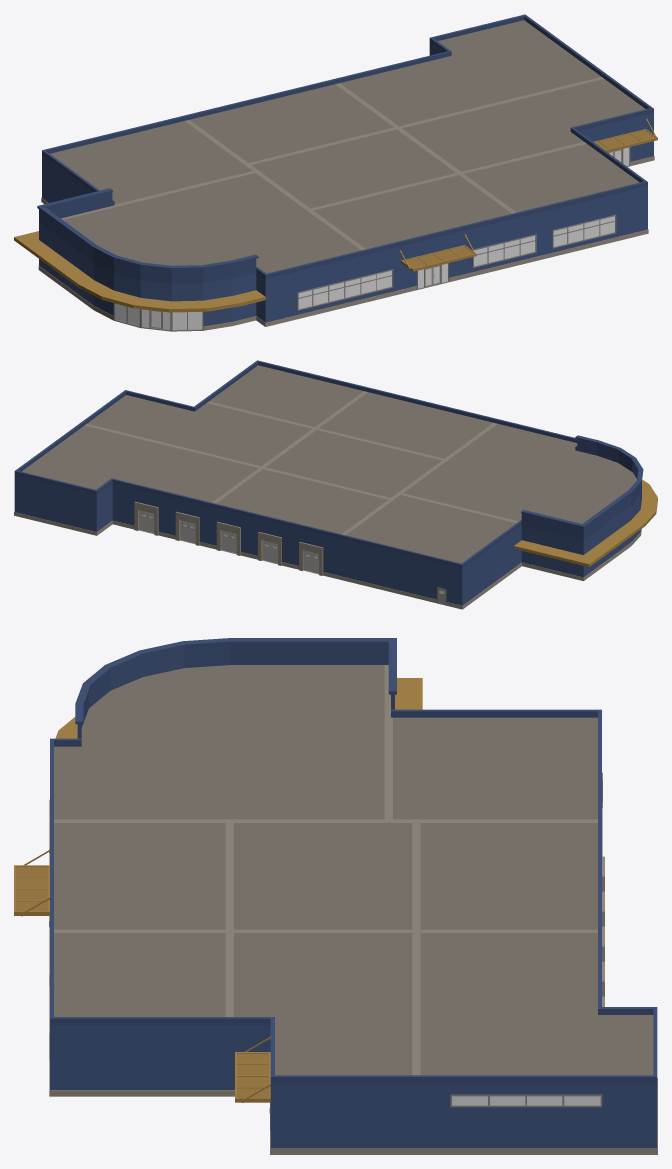
Rendered from SM_Bldg_City_ShoppingMall.fbx.
3 views of the same model, one above another, from view 1: azimuth 30°, elevation 25°; view 2: azimuth 150°, elevation 25°; view 3: azimuth 270°, elevation 25° (orthographic). The views are drawn at different scales.
Parts seen in each view (by area): view 1: SM_Bldg_City_ShoppingMall, SM_Bldg_City_ShoppingMall_Glass; view 2: SM_Bldg_City_ShoppingMall; view 3: SM_Bldg_City_ShoppingMall, SM_Bldg_City_ShoppingMall_Glass.
Boxes of the visible parts, x1,y1,x2,y2 form: SM_Bldg_City_ShoppingMall: (14, 14, 657, 331); SM_Bldg_City_ShoppingMall_Glass: (115, 147, 629, 329); SM_Bldg_City_ShoppingMall: (14, 360, 657, 609); SM_Bldg_City_ShoppingMall: (14, 638, 657, 1154); SM_Bldg_City_ShoppingMall_Glass: (452, 1096, 600, 1105).
Size of the model in its own units: 7405 by 765 by 4665.
